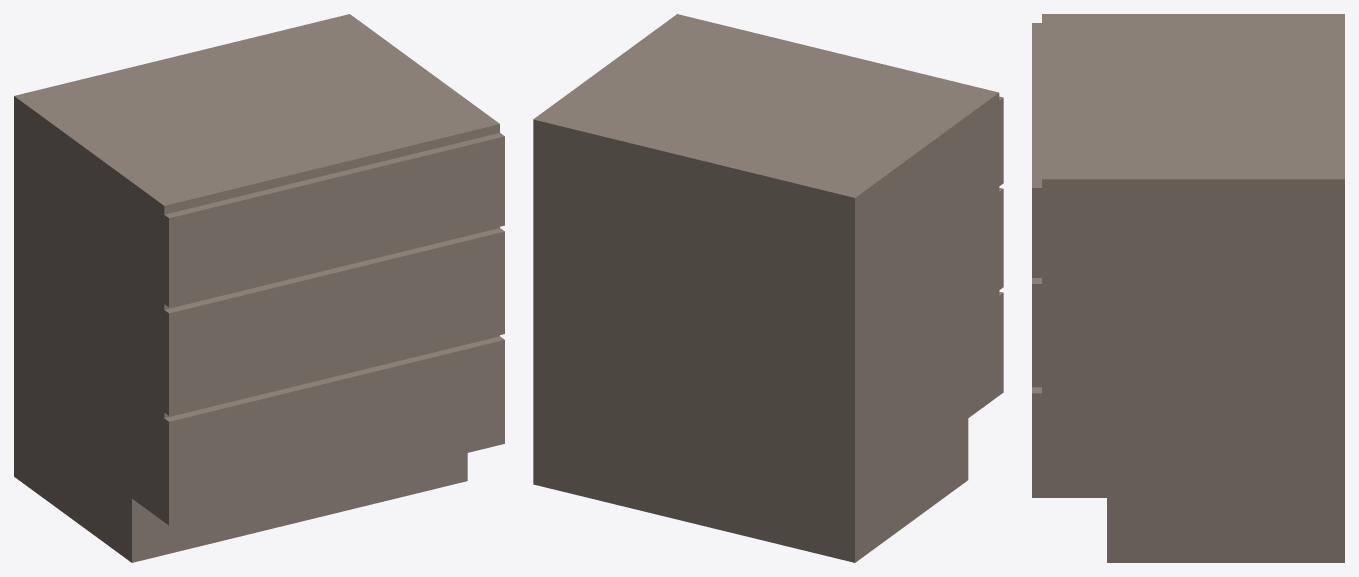
Rendered from Universal-Design-Base-Cabinet-Three-Drawer-24-Deep_std_001_W30i.glb.
3 renders of one model, left to right at view 1: azimuth 30°, elevation 25°; view 2: azimuth 150°, elevation 25°; view 3: azimuth 270°, elevation 25°, orthographic. The views are drawn at different scales.
Parts seen in each view (by area): view 1: Universal-Design-Base-Cabinet-Three-Drawer-24-Deep.std.001_W; view 2: Universal-Design-Base-Cabinet-Three-Drawer-24-Deep.std.001_W; view 3: Universal-Design-Base-Cabinet-Three-Drawer-24-Deep.std.001_W.
Boxes of the visible parts, x1,y1,x2,y2 form: Universal-Design-Base-Cabinet-Three-Drawer-24-Deep.std.001_W: (14, 14, 504, 562); Universal-Design-Base-Cabinet-Three-Drawer-24-Deep.std.001_W: (533, 14, 1003, 562); Universal-Design-Base-Cabinet-Three-Drawer-24-Deep.std.001_W: (1032, 14, 1344, 562).
Bounding box in the file's own units: 0.762 × 0.8255 × 0.6096.
